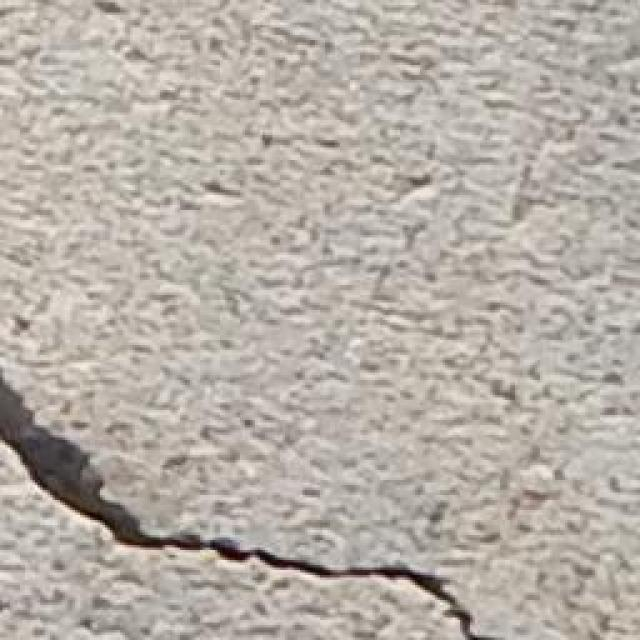concrete-crack: (0, 356, 507, 640)
